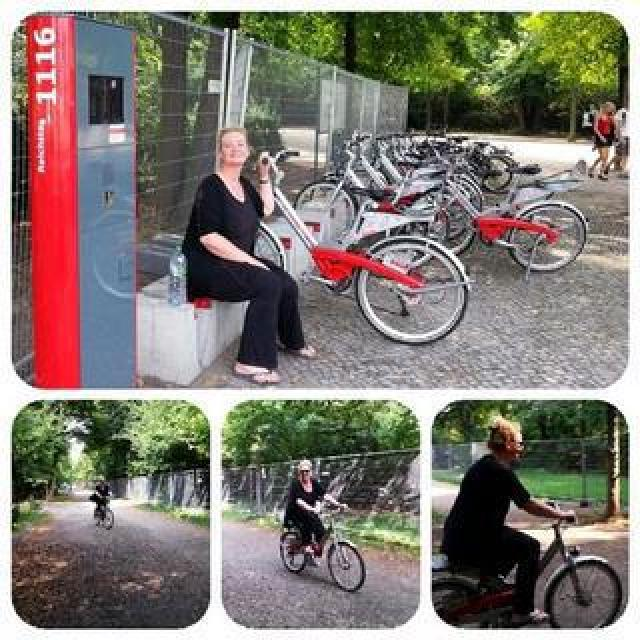MC-Bike: (182, 128, 314, 384), (442, 418, 576, 626), (280, 460, 326, 558), (590, 102, 618, 180), (90, 480, 112, 524)
Person: (254, 146, 472, 346), (412, 138, 592, 276), (434, 514, 626, 630), (292, 132, 468, 244), (278, 506, 368, 594), (94, 498, 114, 528)
